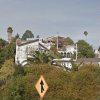Tree: (53, 62, 100, 100)
